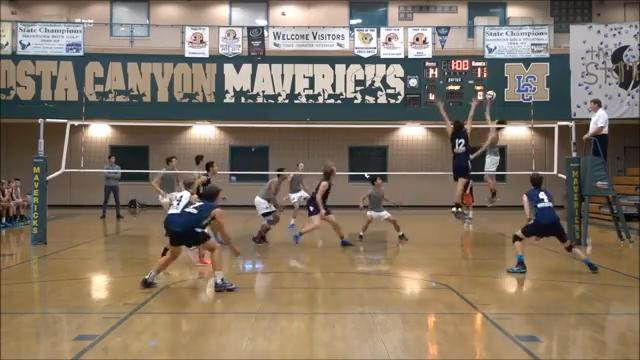attacco: (480, 86, 512, 206)
muro: (432, 89, 479, 228)
